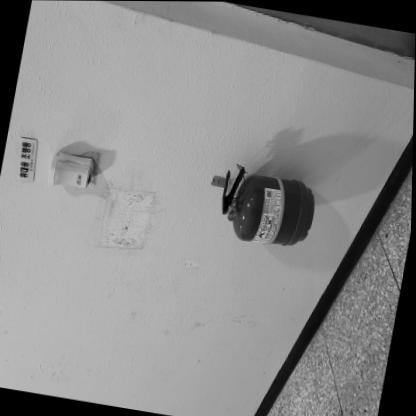FE: (215, 161, 321, 251)
